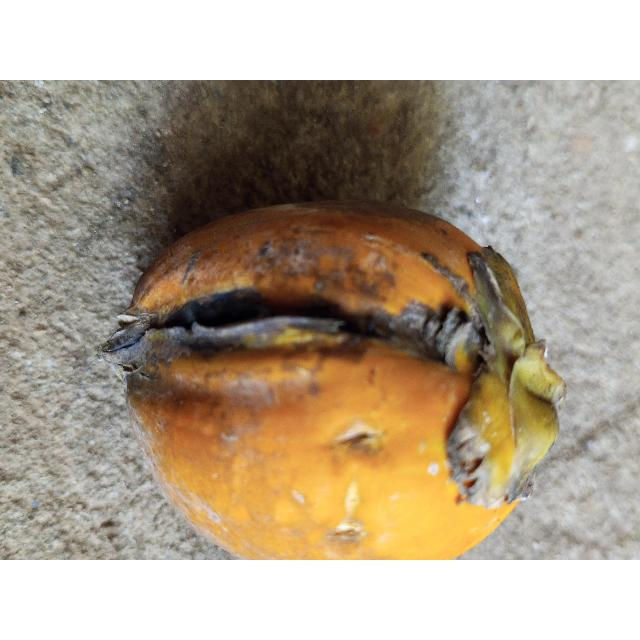damaged: (101, 200, 565, 560)
